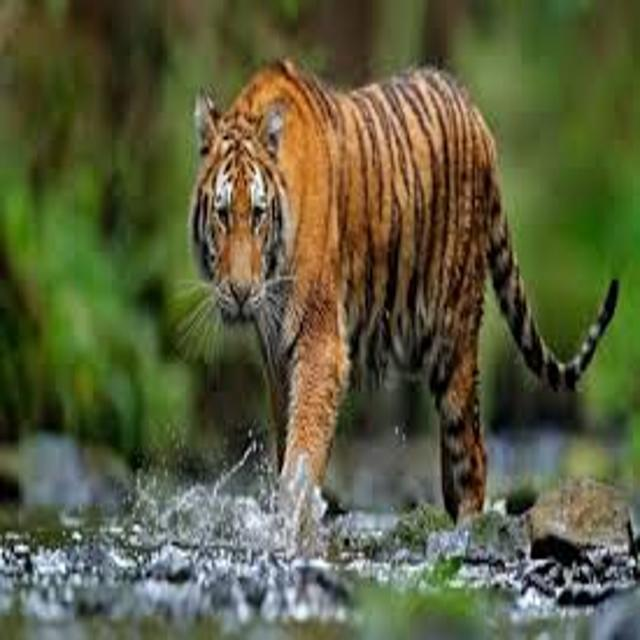tiger: (146, 39, 634, 586)
